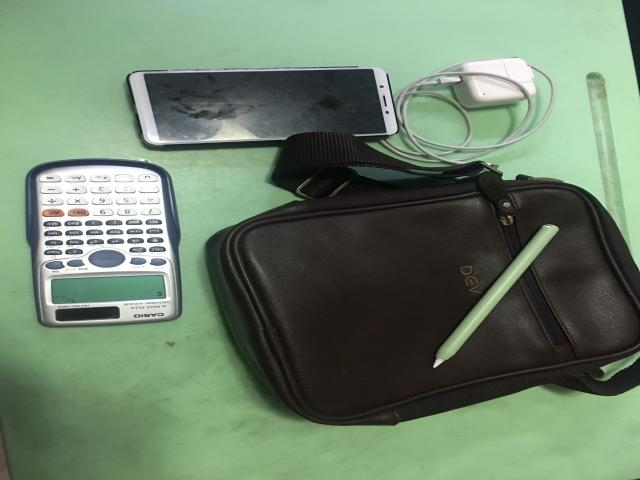Mobile phone: (128, 67, 398, 146)
wire: (382, 58, 557, 164)
